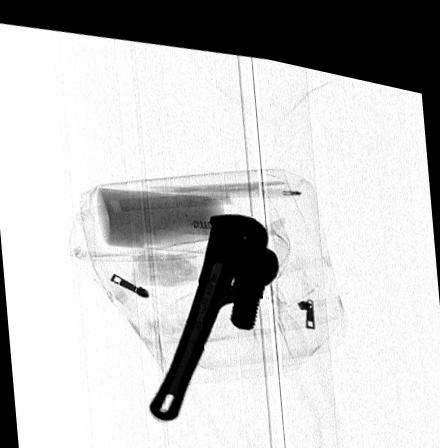Wrench: (147, 203, 278, 412)
